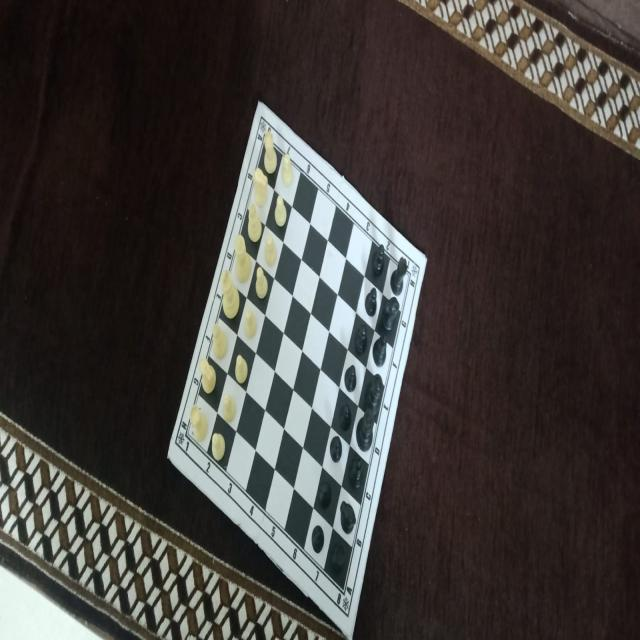corners: (421, 234, 434, 280), (254, 88, 268, 116), (160, 444, 173, 467), (343, 626, 354, 640)
